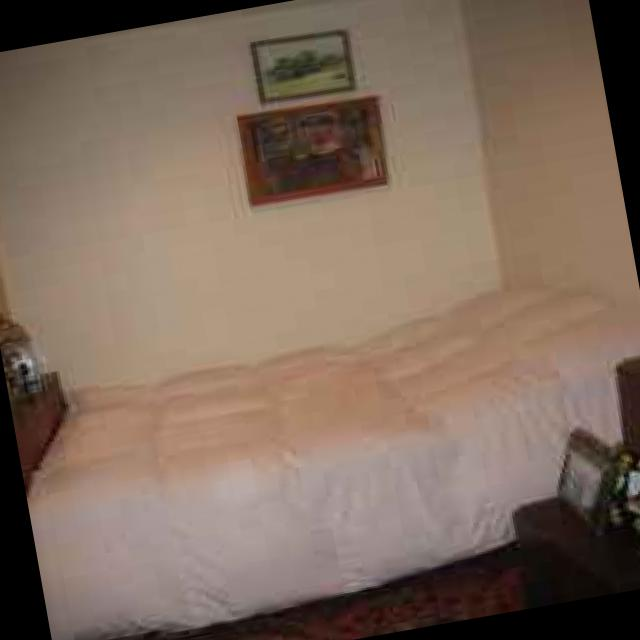bed -occluded-: (28, 285, 640, 640)
ceiling beam: (191, 0, 338, 20)
floor -X: (24, 371, 640, 640)
furniture occluded: (12, 369, 64, 489)
night table crop: (507, 475, 640, 605)
photograph: (549, 422, 618, 536)
picture crop: (233, 92, 387, 205), (249, 27, 350, 102)
wall clock: (0, 0, 521, 463), (461, 0, 640, 485)
